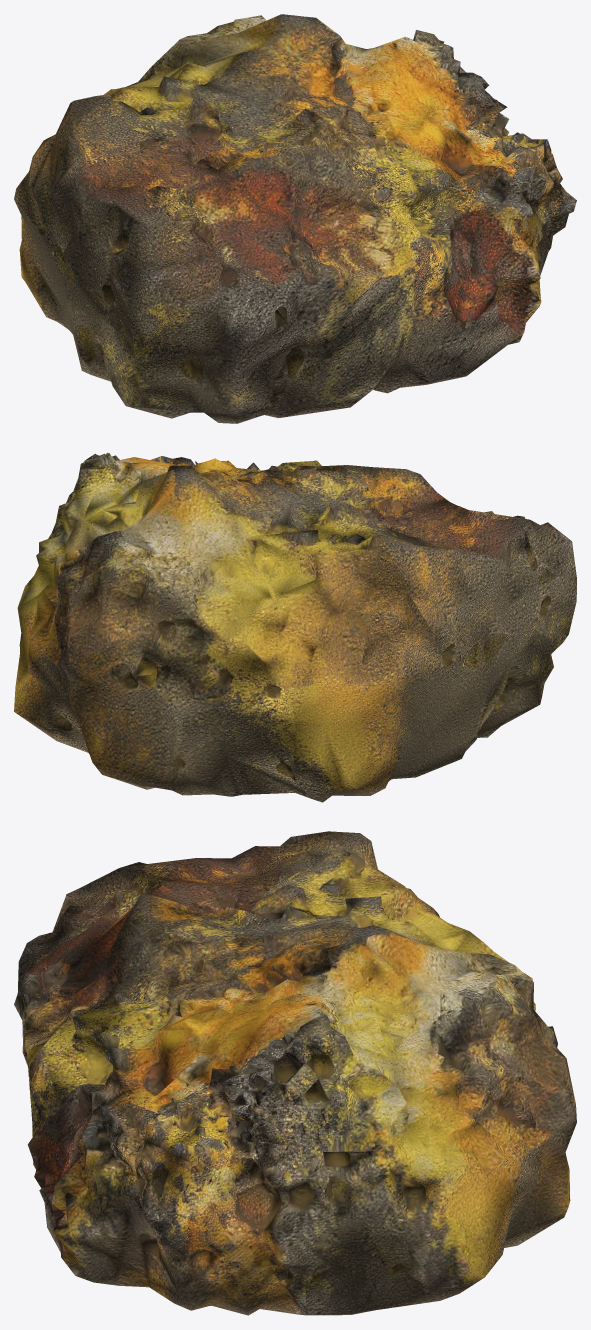
Rendered from rock-io-sulfur.glb.
3 views of the same model, one above another, from view 1: azimuth 30°, elevation 25°; view 2: azimuth 150°, elevation 25°; view 3: azimuth 270°, elevation 25° (orthographic). The views are drawn at different scales.
Visible parts, largest first — view 1: lod0; view 2: lod0; view 3: lod0.
Part boxes in pixels (x1,y1,x2,y2): lod0: [14, 14, 576, 423]; lod0: [14, 452, 576, 802]; lod0: [14, 831, 576, 1315].
Size of what is drawn, in the model's own units: 0.9957 by 0.5592 by 0.897.
1 material, 1 textured.
